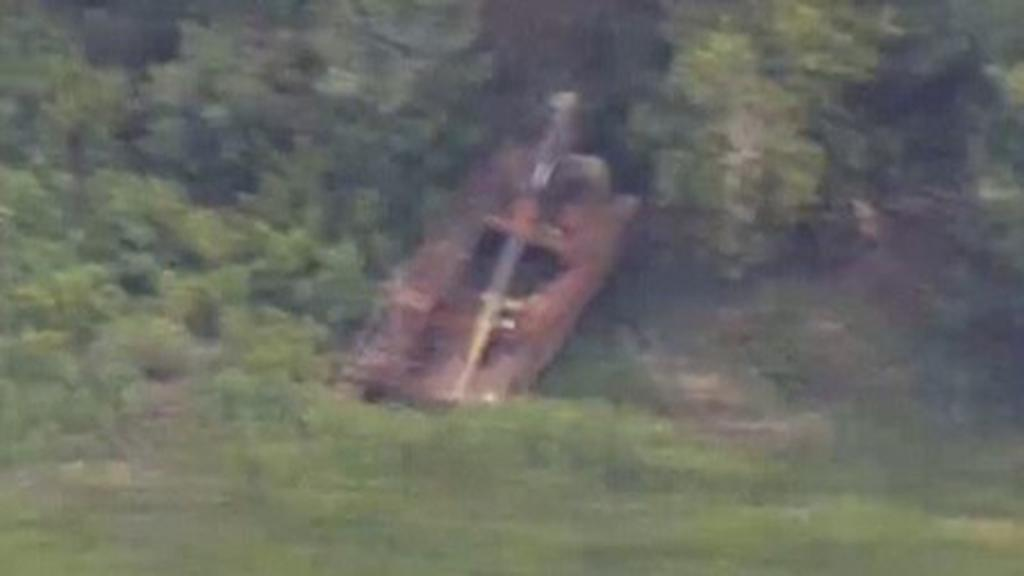ART: (330, 80, 642, 428)
